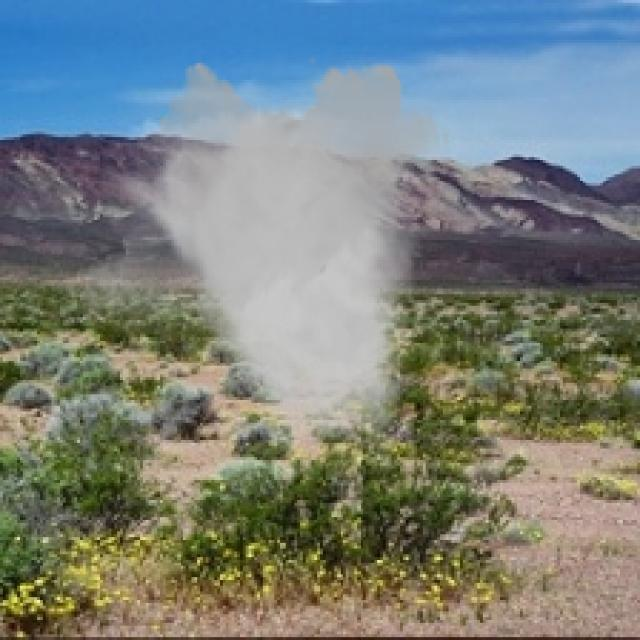Smoke: (66, 51, 452, 460)
